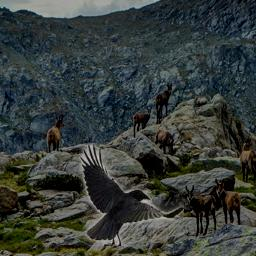Crow: (79, 143, 184, 246)
